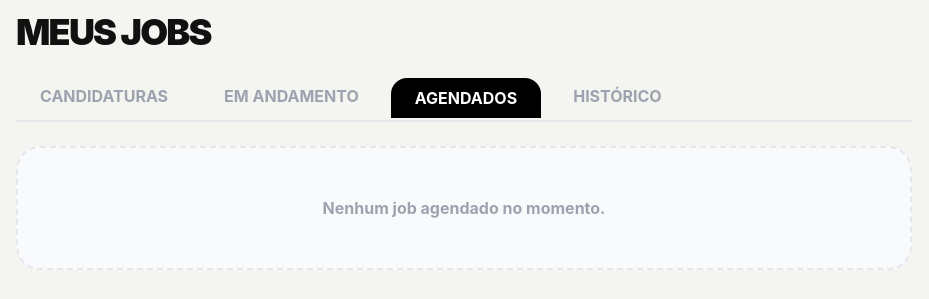
Scenario: MyJobs - Botao cancelar aplicacao › exibe botao de cancelar para jobs applied
Note: Switch to Candidaturas tab
Step 1. Click the button "Candidaturas" → (104,96), box x1=16 y1=76 x2=192 y2=116
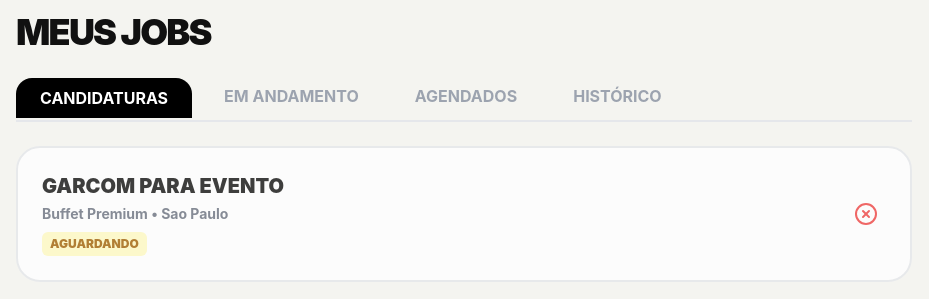
Expected: the heading "Garcom para Evento" is shown, x1=42 y1=172 x2=284 y2=200
Expected: the button titled "Cancelar Candidatura" is shown, x1=846 y1=194 x2=886 y2=234
